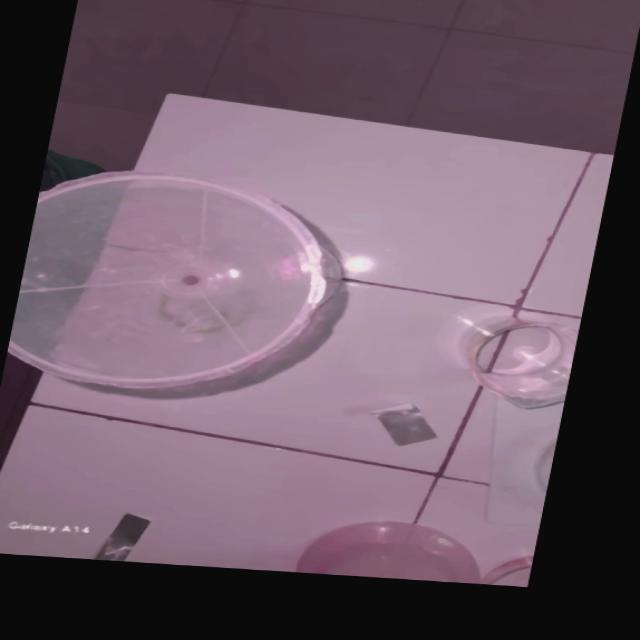Funnel: (3, 163, 350, 408)
